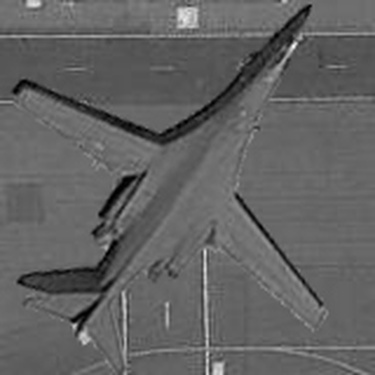airplane: (4, 6, 367, 371)
